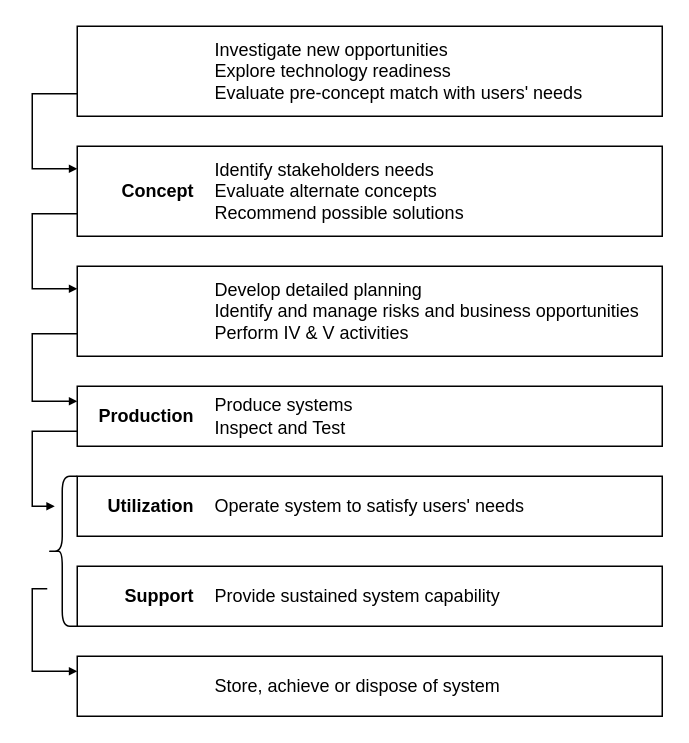
This 689x743 diagram has some shape labels left out. Here are the shapes that lost their labels. From the top down, the centre of each, then its label:
point 136,71: Exploratory
point 136,311: Development
point 136,686: Retirement
